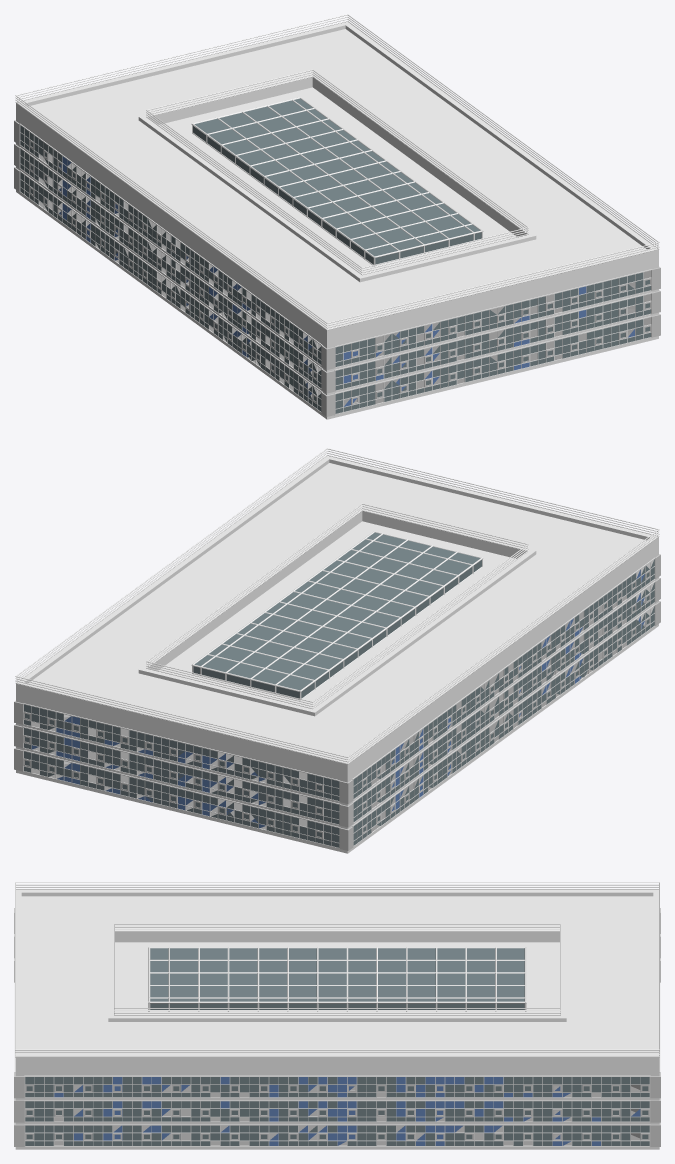
3 renders of one model, top to bottom at view 1: azimuth 30°, elevation 25°; view 2: azimuth 150°, elevation 25°; view 3: azimuth 270°, elevation 25°, orthographic. The views are drawn at different scales.
Visible parts, largest first — view 1: Slabs, Glass, Frame, Rails, Walls; view 2: Slabs, Glass, Frame, Rails, Walls; view 3: Slabs, Glass, Frame, Rails, Walls.
Part boxes in pixels (x1,y1,x2,y2): Slabs: (16, 22, 658, 419); Glass: (20, 98, 650, 413); Frame: (19, 97, 651, 414); Rails: (15, 14, 659, 330); Walls: (14, 120, 660, 416); Slabs: (16, 456, 658, 853); Glass: (24, 532, 654, 847); Frame: (23, 531, 655, 848); Rails: (15, 448, 659, 764); Walls: (14, 554, 660, 850); Slabs: (15, 890, 659, 1149); Glass: (25, 948, 649, 1145); Frame: (14, 912, 660, 1146); Rails: (15, 882, 659, 1057); Walls: (14, 908, 660, 1146).
Size of the model in its own units: 0.4034 by 0.1115 by 0.6534.
1 material, 1 textured.
